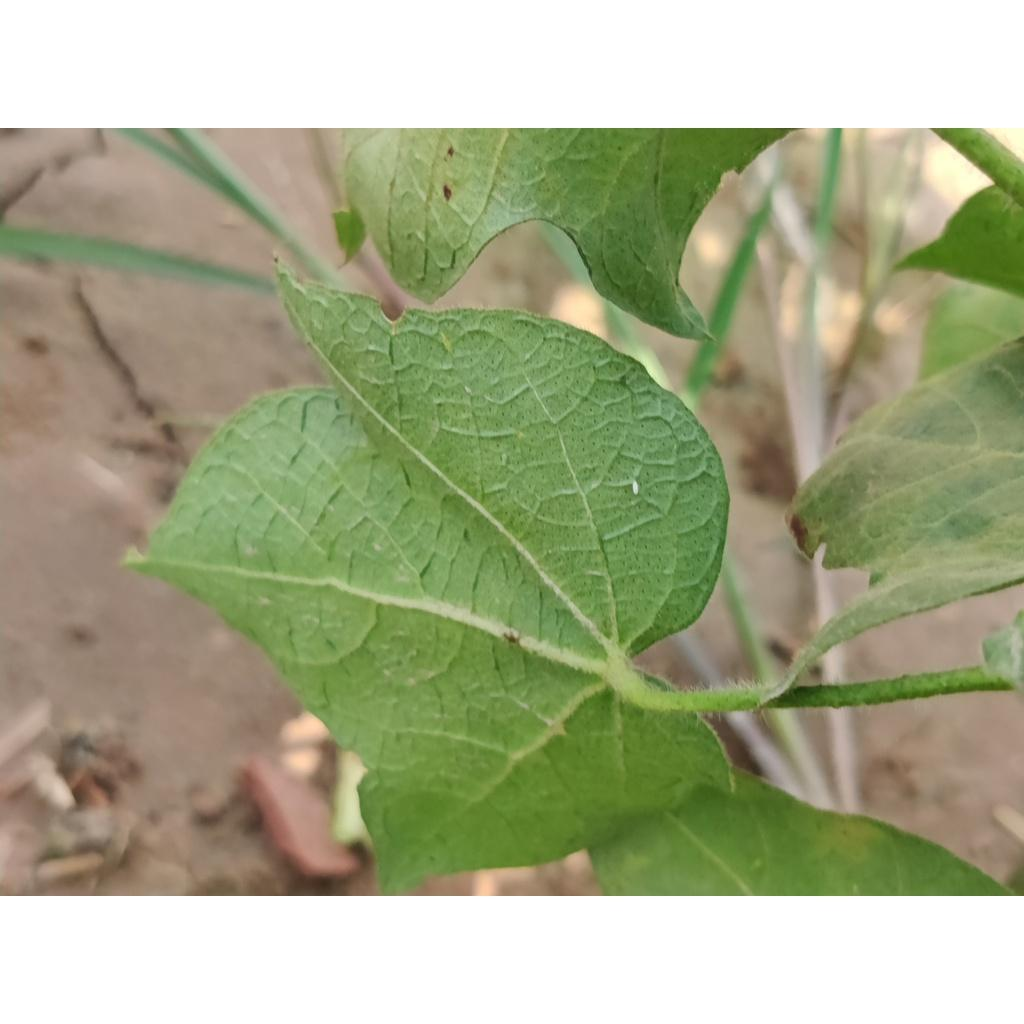adult: (631, 480, 639, 495), (373, 542, 383, 553), (463, 385, 473, 395)
